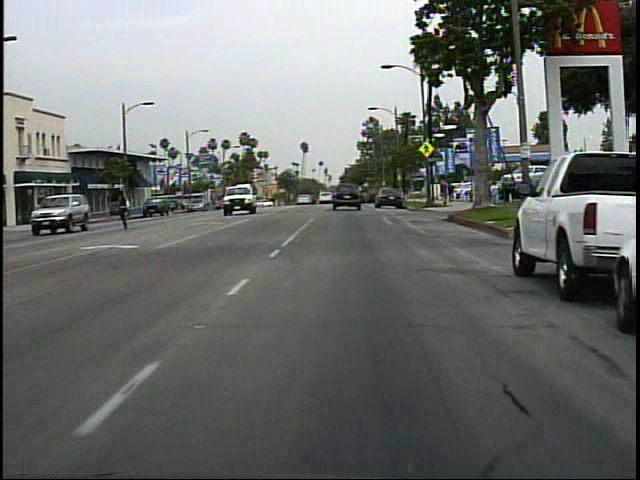person: (115, 187, 139, 234), (488, 180, 502, 211)
